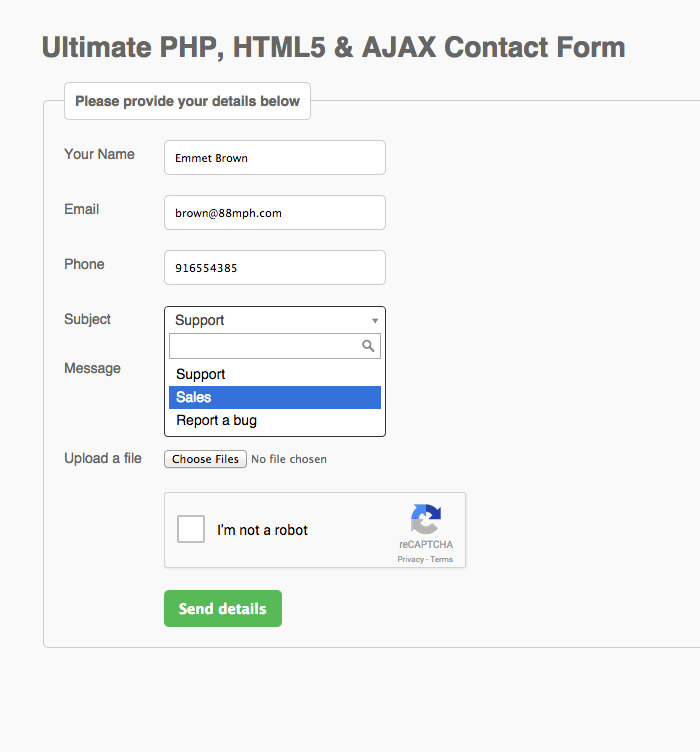_form_: (39, 242, 455, 659), (36, 68, 452, 484)
button: (161, 586, 284, 630), (163, 447, 249, 471)
checkbox: (172, 509, 215, 548)
checkbox_with_label: (169, 504, 308, 548)
field: (163, 247, 387, 289), (159, 193, 389, 233), (162, 139, 390, 178), (167, 330, 382, 363)
field_with_label: (64, 245, 389, 292), (62, 137, 392, 180), (64, 192, 391, 234), (63, 446, 251, 473)
